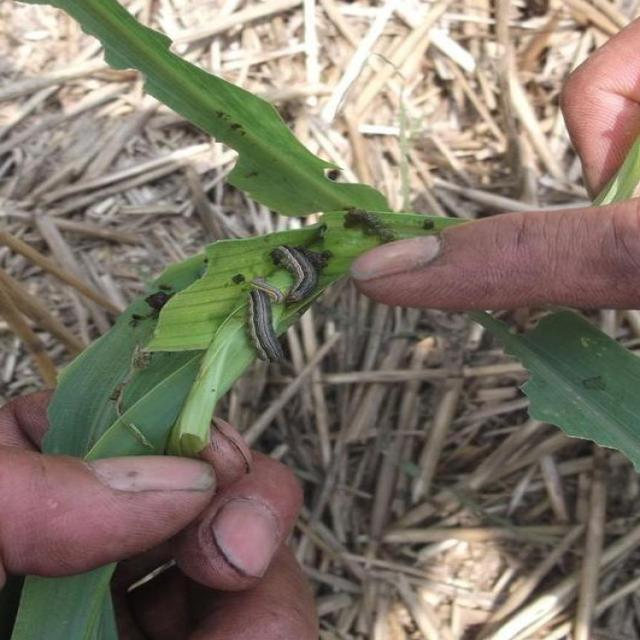pest: (237, 287, 305, 371), (276, 244, 334, 303)
